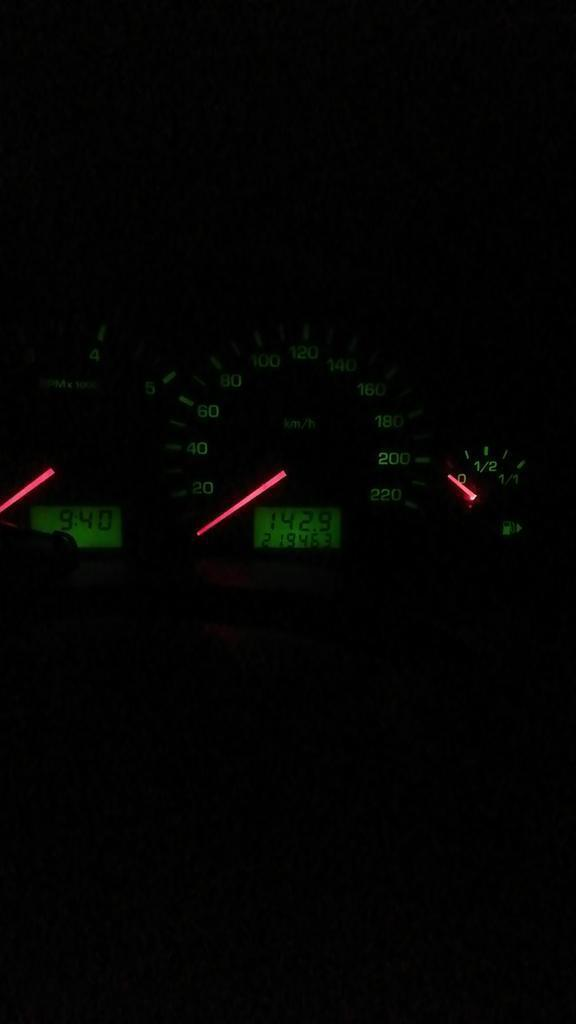,: (311, 526, 317, 532)
1: (269, 510, 276, 530), (277, 532, 284, 547)
2: (297, 508, 313, 531), (260, 531, 272, 547)
3: (323, 532, 332, 547)
4: (280, 510, 294, 530), (297, 533, 308, 548)
6: (309, 532, 320, 547)
9: (317, 510, 334, 532), (285, 531, 296, 548)
odometer: (252, 504, 343, 552)
